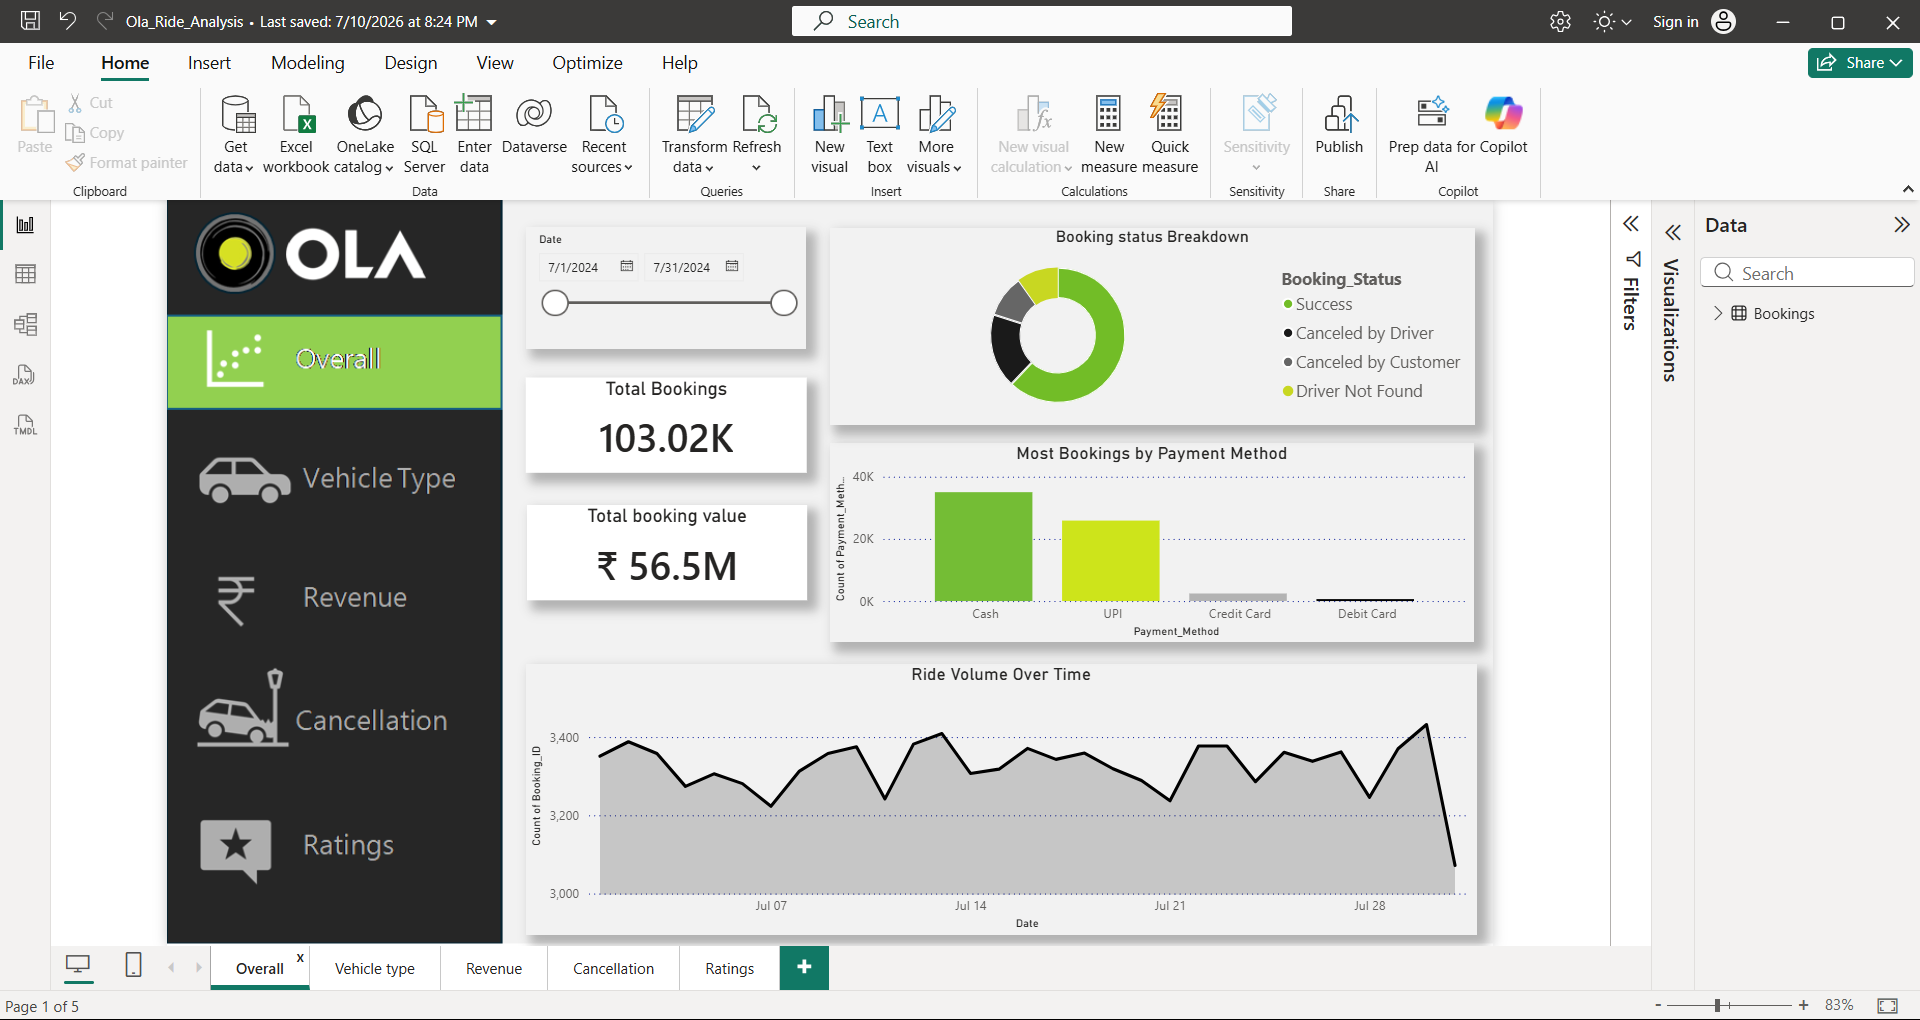

This screenshot's page, from the dashboard's own definition file:
{"tool":"powerbi","page":{"name":"Overall","canvas":[1280,720],"ordinal":0},"visuals":[{"type":"actionButton","box":[0,320.9,324.5,106.2],"z":0},{"type":"actionButton","box":[0,203.9,324.5,117],"z":1000},{"type":"actionButton","box":[0,427.1,324.5,125.5],"z":2000},{"type":"actionButton","box":[0,552.5,324.5,125.5],"z":3000},{"type":"lineChart","title":"Ride Volume Over Time","fields":{"Y":["CountNonNull(Bookings.Booking_ID)"],"Category":["Bookings.Date"]},"box":[346.2,447.6,918.1,261.8],"z":4000},{"type":"donutChart","title":"Booking status Breakdown","fields":{"Category":["Bookings.Booking_Status"],"Y":["CountNonNull(Bookings.Booking_Status)"]},"box":[639.5,26.1,623,190.7],"z":5000},{"type":"slicer","fields":{"Values":["Bookings.Date"]},"box":[345.8,26.1,270.3,116.6],"z":6000},{"type":"cardVisual","title":"Total Bookings","fields":{"Data":["CountNonNull(Bookings.Booking_ID)"]},"box":[346.2,171.3,271.4,91.7],"z":7000},{"type":"cardVisual","title":"Total booking value ","fields":{"Data":["Sum(Bookings.Booking_Value)"]},"box":[347.5,294.4,270.2,91.7],"z":8000},{"type":"columnChart","title":" Most Bookings by Payment Method","fields":{"Category":["Bookings.Payment_Method"],"Y":["CountNonNull(Bookings.Payment_Method)"]},"box":[639.4,234,622.5,193],"z":9000}]}

Visuals, with their boxes on the page's 1280x720 design canvas (x1, y1, x2, y2). These are canvas units, not pixel positions in the 1920x1020 screenshot, which may show the page scaled, cropped or inside an application window:
actionButton: {"left": 0, "top": 321, "right": 324, "bottom": 427}
actionButton: {"left": 0, "top": 204, "right": 324, "bottom": 321}
actionButton: {"left": 0, "top": 427, "right": 324, "bottom": 553}
actionButton: {"left": 0, "top": 552, "right": 324, "bottom": 678}
"Ride Volume Over Time" lineChart: {"left": 346, "top": 448, "right": 1264, "bottom": 709}
"Booking status Breakdown" donutChart: {"left": 640, "top": 26, "right": 1262, "bottom": 217}
slicer - Bookings.Date: {"left": 346, "top": 26, "right": 616, "bottom": 143}
"Total Bookings" cardVisual: {"left": 346, "top": 171, "right": 618, "bottom": 263}
"Total booking value " cardVisual: {"left": 348, "top": 294, "right": 618, "bottom": 386}
" Most Bookings by Payment Method" columnChart: {"left": 639, "top": 234, "right": 1262, "bottom": 427}
